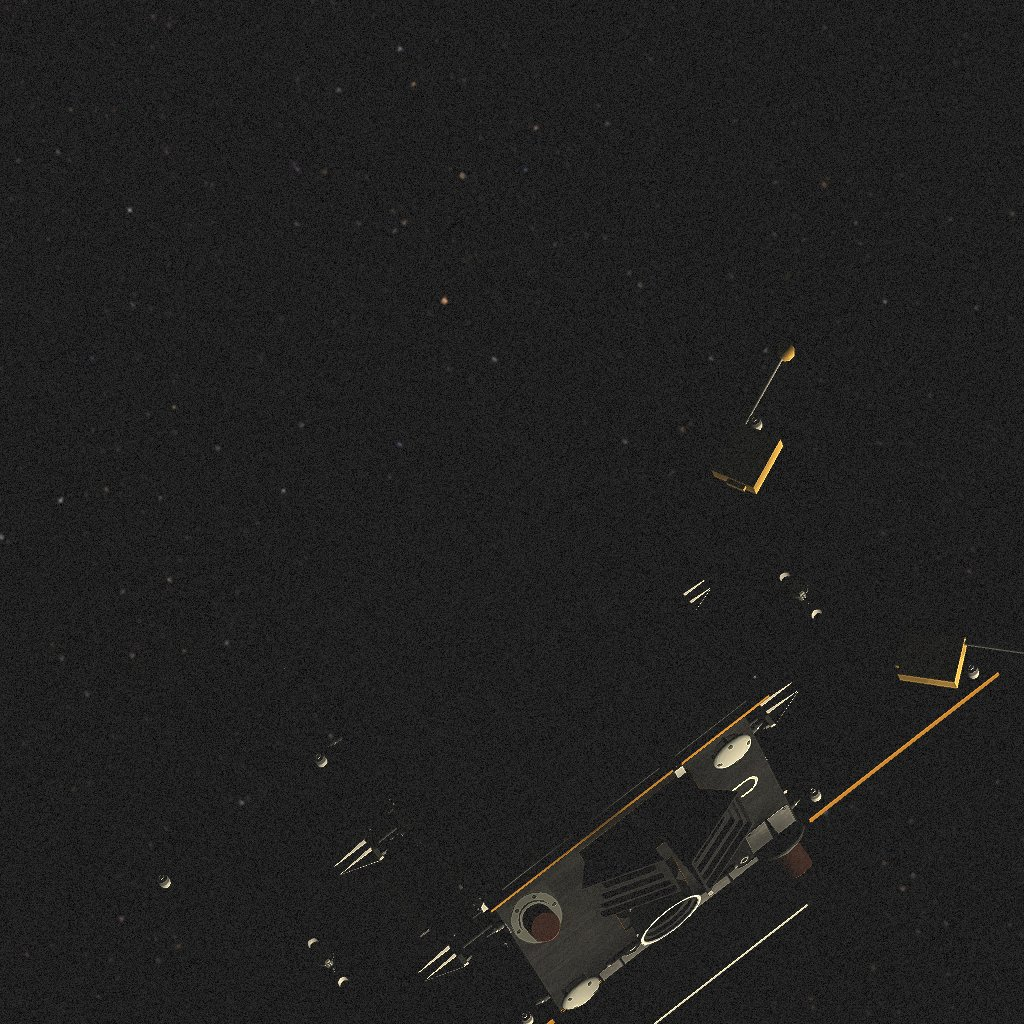proba_2: (260, 312, 996, 1005)
